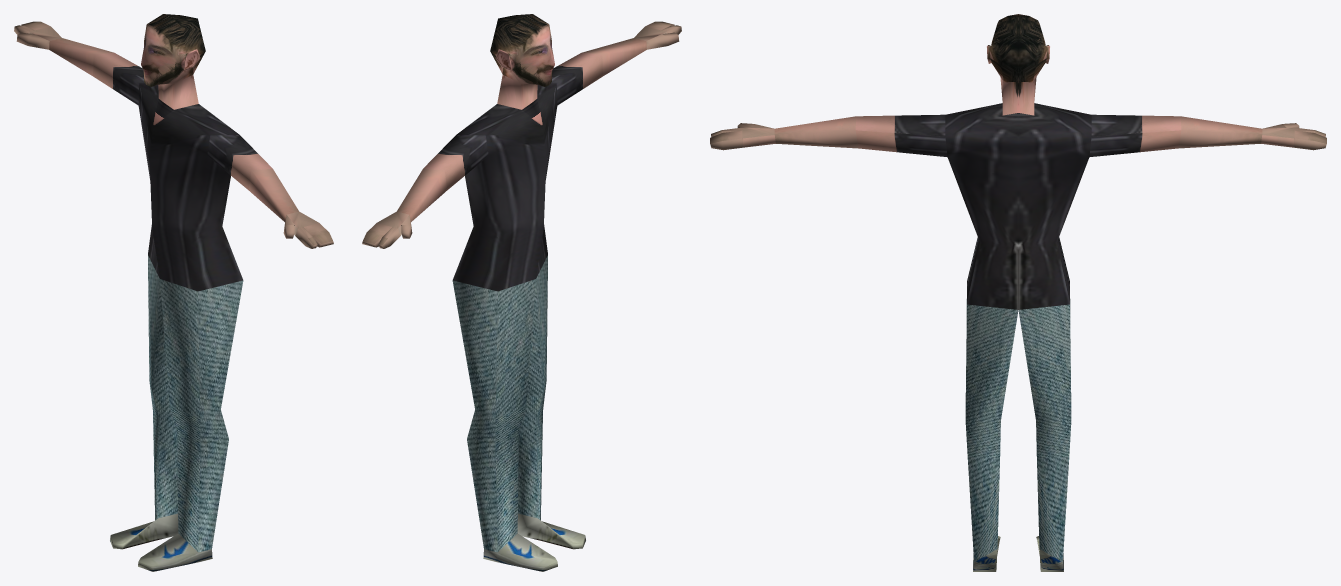
Rendered from ahmetcan.fbx.
3 renders of one model, left to right at view 1: azimuth 30°, elevation 25°; view 2: azimuth 150°, elevation 25°; view 3: azimuth 270°, elevation 25°, orthographic. The views are drawn at different scales.
Visible parts, largest first — view 1: Cube; view 2: Cube; view 3: Cube.
Boxes of the visible parts, left/top/right/bottom form: Cube: left=14, top=14, right=333, bottom=571; Cube: left=362, top=14, right=681, bottom=571; Cube: left=710, top=14, right=1326, bottom=571.
Bounding box in the file's own units: 66.75 × 344 × 352.
